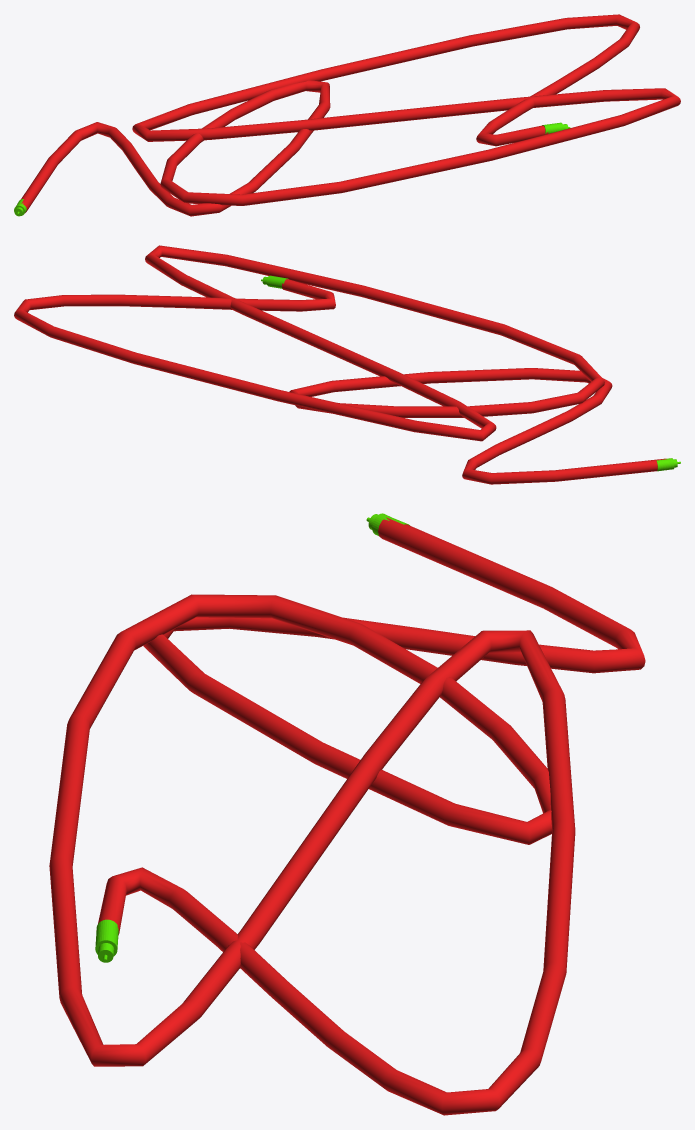
The model's file is cables_colored.fbx.
The picture shows the model from 3 angles, top to bottom: view 1: azimuth 30°, elevation 25°; view 2: azimuth 150°, elevation 25°; view 3: azimuth 270°, elevation 25°; orthographic projection. The views are drawn at different scales.
Parts seen in each view (by area): view 1: BezierCurve; view 2: BezierCurve; view 3: BezierCurve.
Part boxes in pixels (left/top/right/bottom): BezierCurve: left=21, top=14, right=680, bottom=216; BezierCurve: left=14, top=245, right=666, bottom=484; BezierCurve: left=49, top=517, right=645, bottom=1115.
Size of the model in its own units: 62.75 by 2.78 by 25.32.
